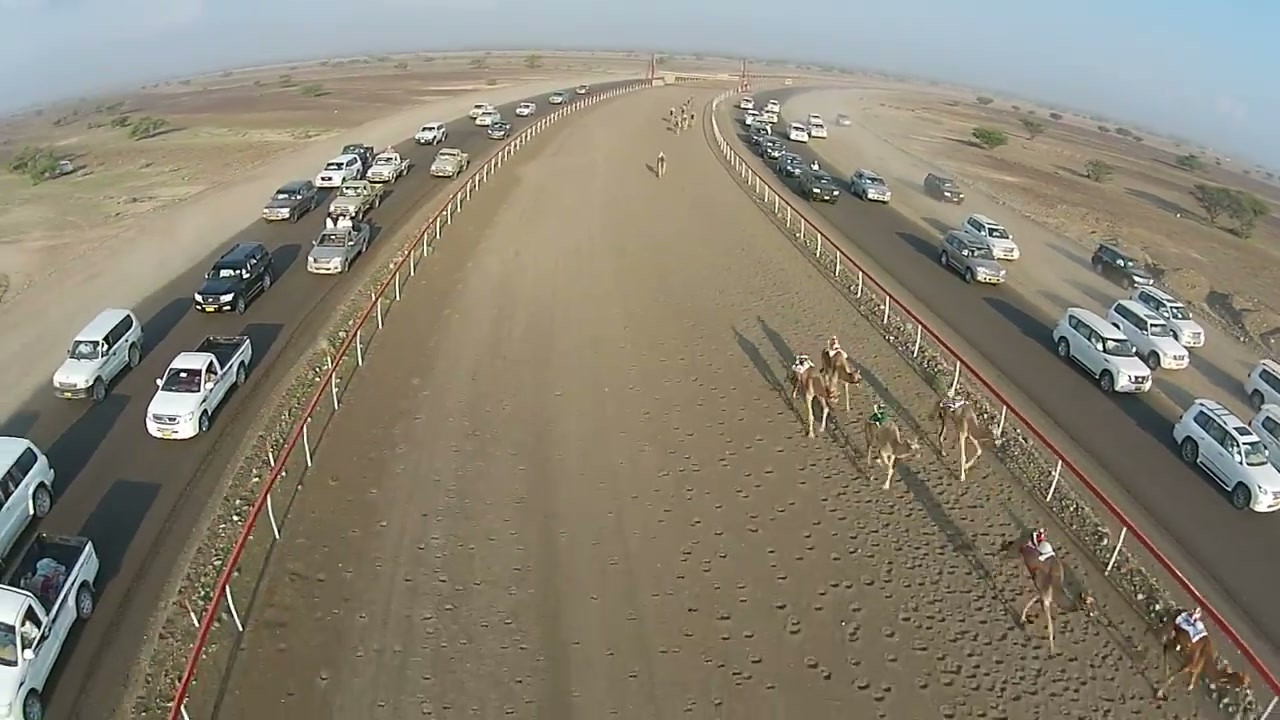animal_footprint: (706, 411, 1126, 717)
